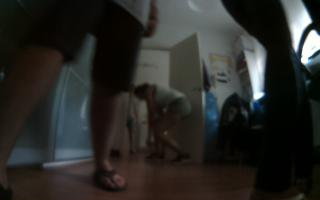person: (1, 1, 160, 200), (222, 1, 320, 200), (135, 81, 201, 168), (120, 77, 140, 161)
